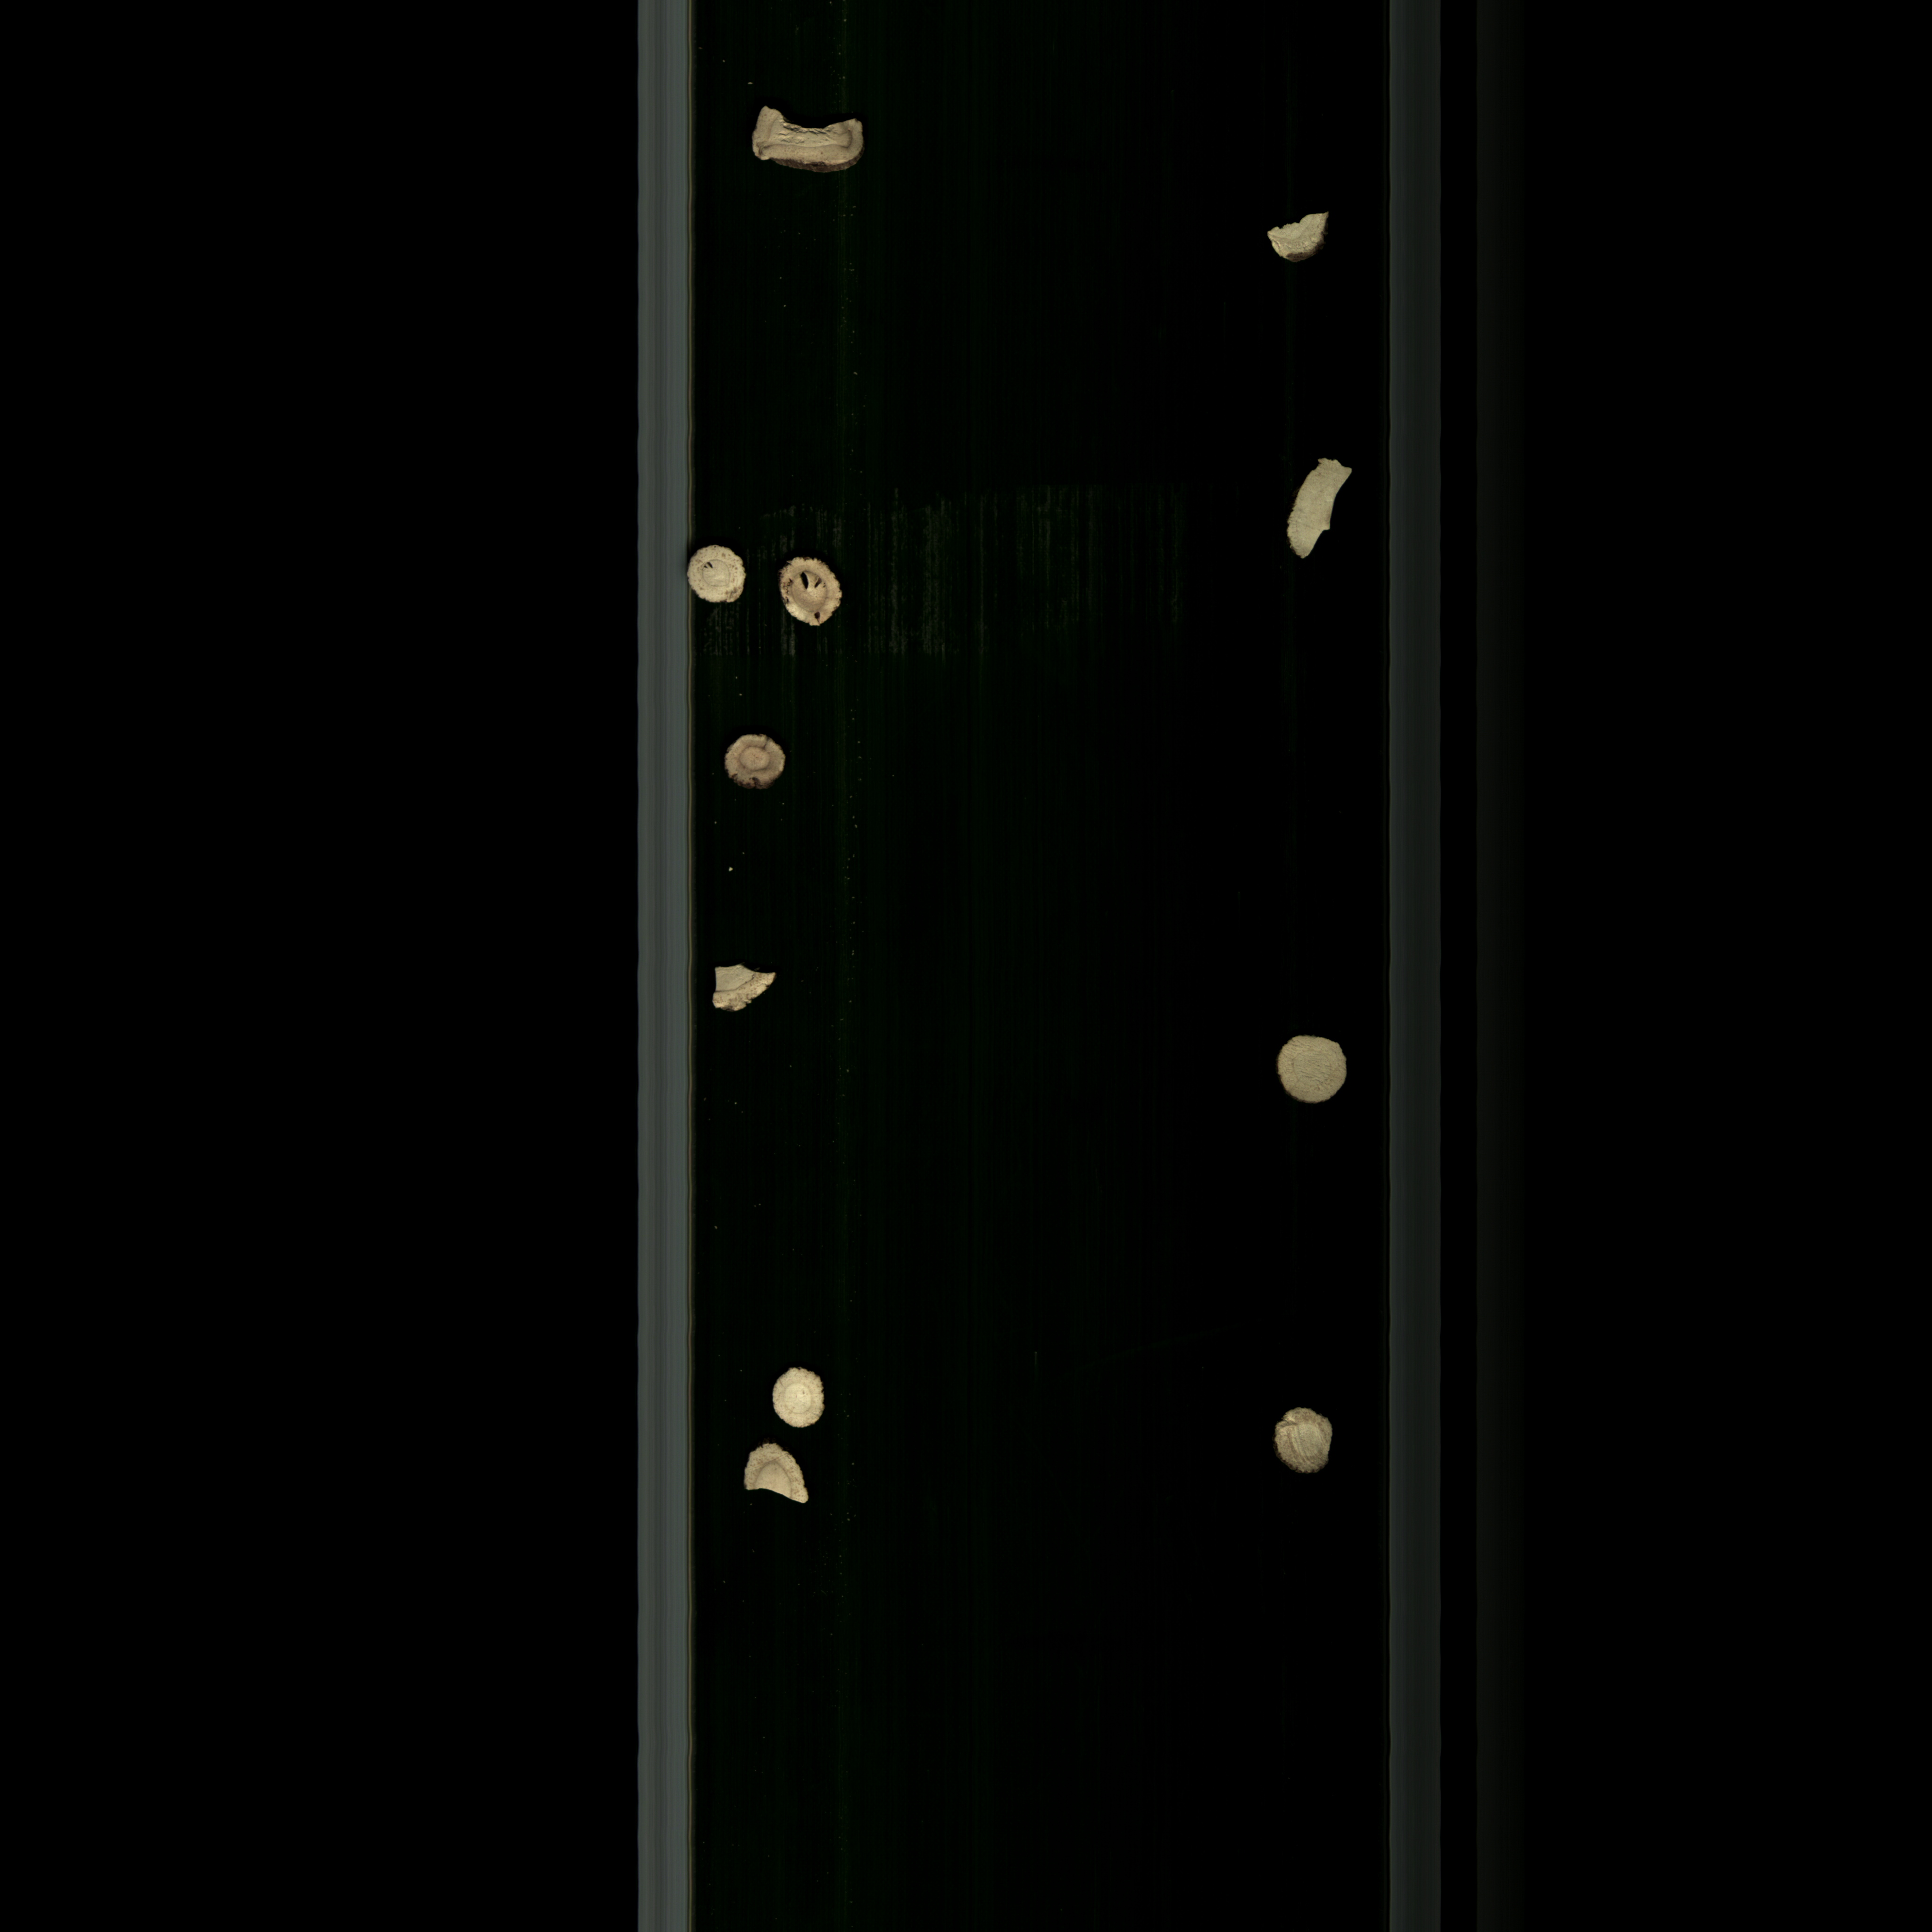debris: (729, 1437, 817, 1518), (1288, 437, 1341, 566), (706, 959, 786, 1021)
dreg: (1251, 216, 1332, 258)
hole: (685, 540, 754, 616)
moldy: (717, 96, 888, 175), (1260, 1396, 1350, 1486), (763, 547, 856, 628), (713, 724, 800, 791)
